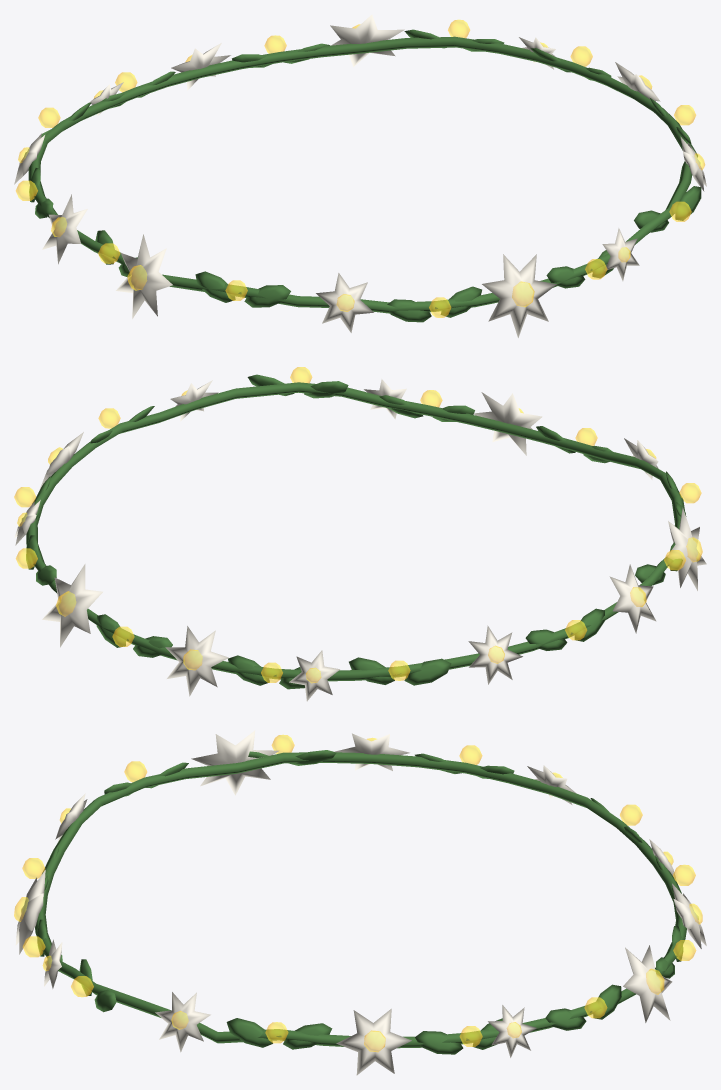
File: flower_crown.glb
3 renders of one model, top to bottom at view 1: azimuth 30°, elevation 25°; view 2: azimuth 150°, elevation 25°; view 3: azimuth 270°, elevation 25°, orthographic. The views are drawn at different scales.
Visible parts, largest first — view 1: flower_crown; view 2: flower_crown; view 3: flower_crown.
Part boxes in pixels (box(x1,y1,x2,y2)): flower_crown: box(14, 14, 706, 337); flower_crown: box(14, 367, 706, 701); flower_crown: box(14, 730, 706, 1075).
Size of the model in its own units: 0.2351 by 0.0308 by 0.2258.
